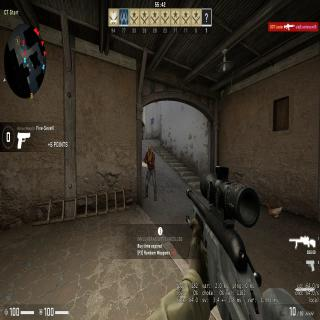T-Body: (144, 145, 156, 197), (142, 121, 145, 140)
T-Head: (148, 145, 152, 153)
